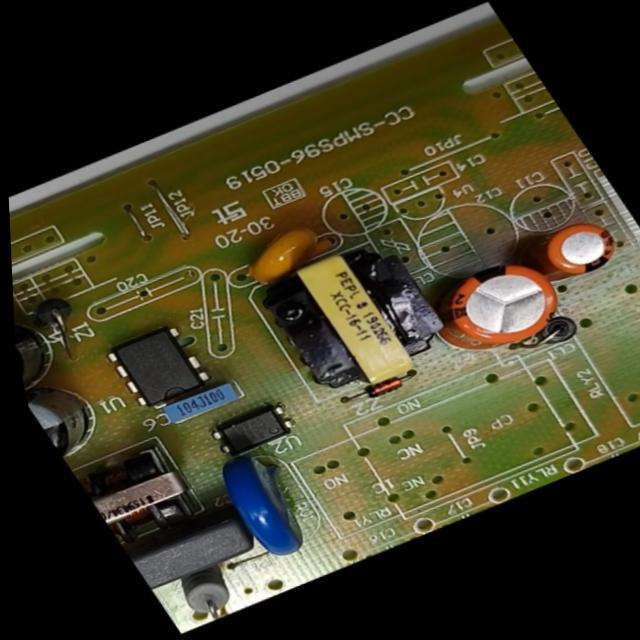Cap1: (402, 233, 599, 380)
Cap2: (512, 196, 640, 298)
Cap3: (22, 357, 142, 470)
Cap4: (12, 279, 92, 399)
MOSFET: (83, 304, 238, 430)
Mov: (191, 419, 353, 577)
Resistor: (158, 561, 254, 633)
Transformer: (206, 198, 505, 445), (59, 407, 250, 575)
